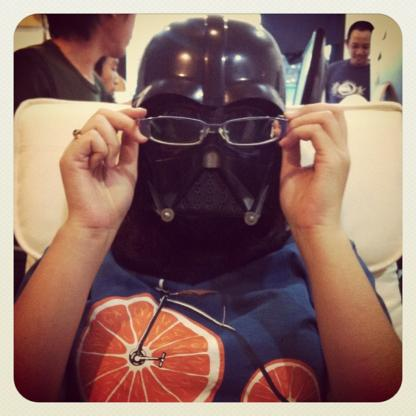Helmet: (121, 23, 298, 210)
